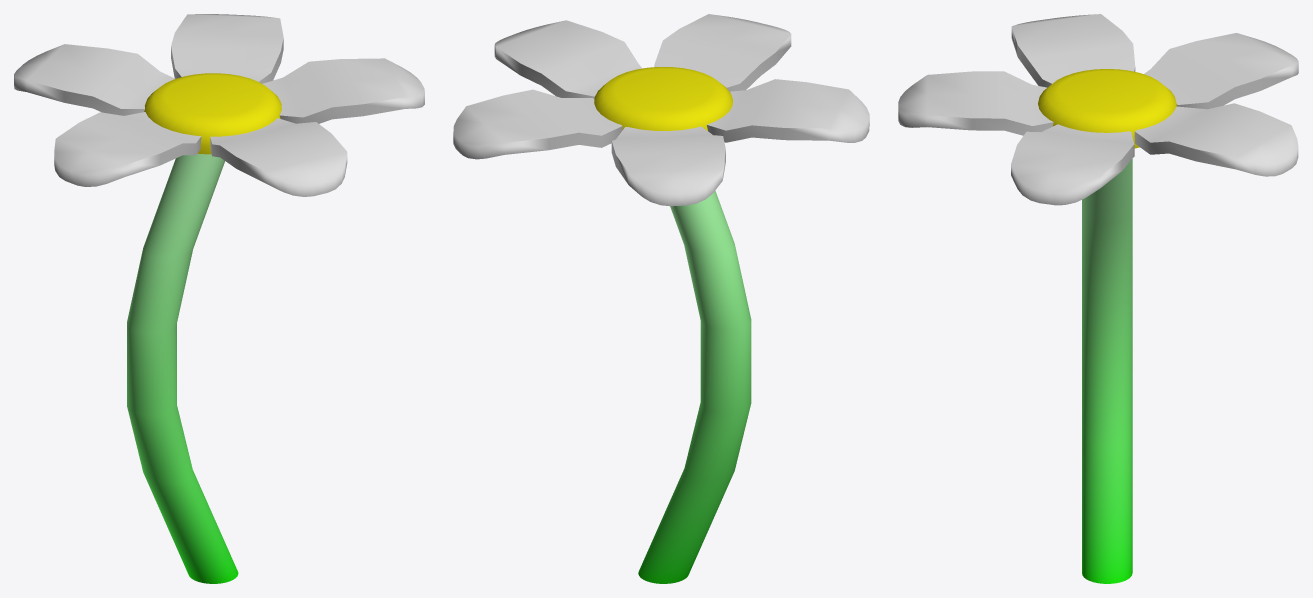
The model's file is flower_002.fbx.
3 views of the same model, side by side, from view 1: azimuth 30°, elevation 25°; view 2: azimuth 150°, elevation 25°; view 3: azimuth 270°, elevation 25° (orthographic).
Parts seen in each view (by area): view 1: Cube.056; view 2: Cube.056; view 3: Cube.056.
Part boxes in pixels (x1,y1,x2,y2): Cube.056: [14, 14, 424, 583]; Cube.056: [453, 14, 869, 583]; Cube.056: [898, 14, 1298, 583].
Bounding box in the file's own units: 17.18 × 21.91 × 16.5.
Materials: 3 (1 with a texture image).
